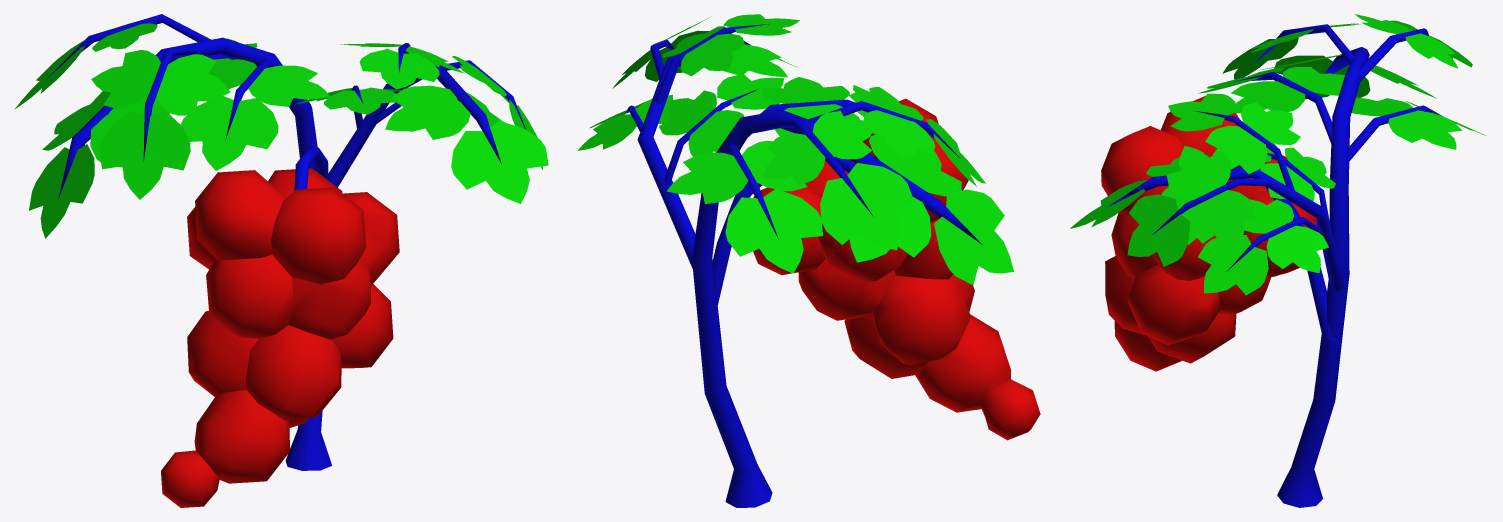
Rendered from Grapes_5.fbx.
The picture shows the model from 3 angles, left to right: view 1: azimuth 30°, elevation 25°; view 2: azimuth 150°, elevation 25°; view 3: azimuth 270°, elevation 25°; orthographic projection. The views are drawn at different scales.
Parts seen in each view (by area): view 1: BSTC_Grapes_5; view 2: BSTC_Grapes_5; view 3: BSTC_Grapes_5.
Boxes of the visible parts, bbox=[...] form: BSTC_Grapes_5: bbox=[14, 14, 548, 507]; BSTC_Grapes_5: bbox=[577, 14, 1040, 507]; BSTC_Grapes_5: bbox=[1070, 14, 1485, 507].
Size of the model in its own units: 96.04 by 90.03 by 81.61.
